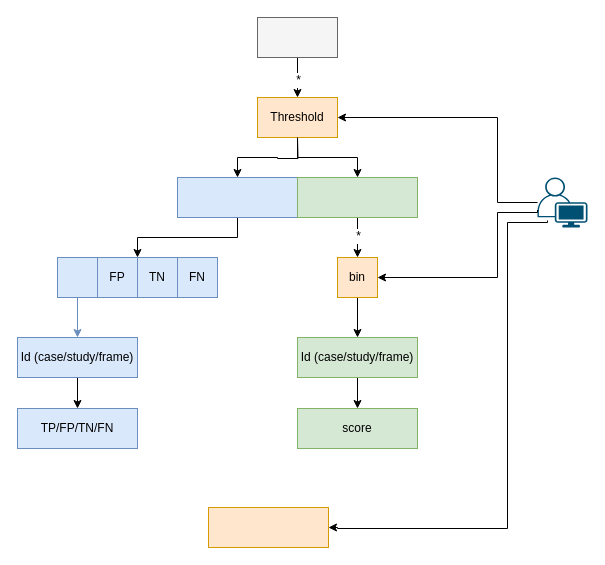
The diagram is 605 pixels wide and 565 high, and some of its shapes have lost their labels. Each missing label, with the centre of its shape:
buckets (based on bucket size): the point at 268,527
Classification: the point at 237,197
Metrics Id: the point at 297,37
Segmentation: the point at 357,197
TP: the point at 77,277
